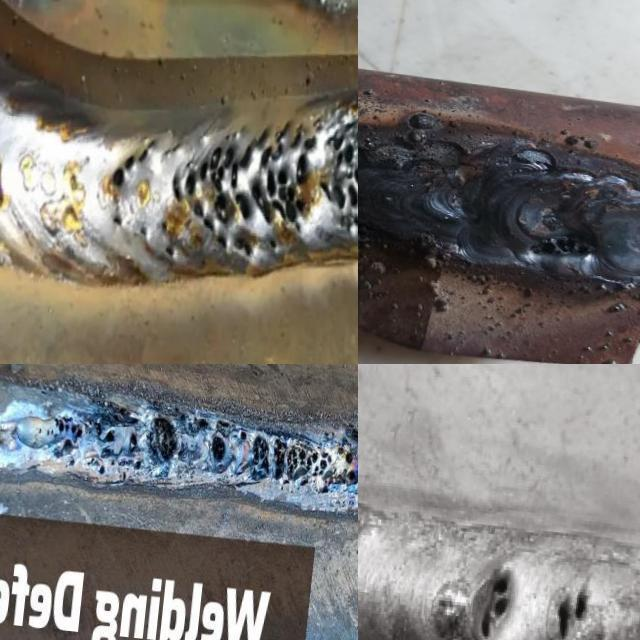defect: (169, 91, 358, 266), (250, 424, 358, 496), (464, 557, 518, 640), (547, 568, 596, 640), (30, 413, 87, 469), (109, 132, 160, 194), (147, 413, 181, 466), (524, 236, 600, 258), (110, 397, 142, 428), (209, 418, 232, 461), (92, 418, 115, 445), (110, 206, 125, 232), (129, 431, 138, 455), (163, 243, 175, 259), (138, 223, 148, 241), (198, 415, 208, 430), (160, 218, 169, 233), (86, 455, 96, 468), (238, 429, 248, 441), (120, 470, 128, 484), (109, 456, 117, 469), (133, 459, 141, 471), (97, 463, 105, 475), (180, 411, 186, 422)
